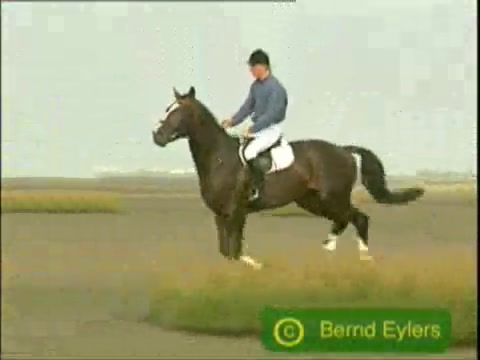horse: (153, 87, 426, 271)
